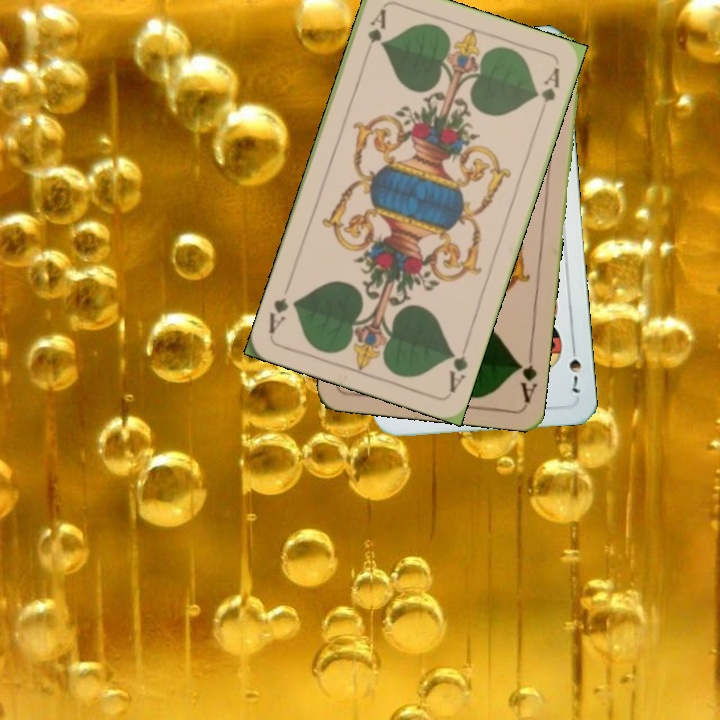GA: (445, 338, 472, 396), (362, 4, 389, 61), (513, 346, 539, 405)
S7: (565, 339, 584, 395)
